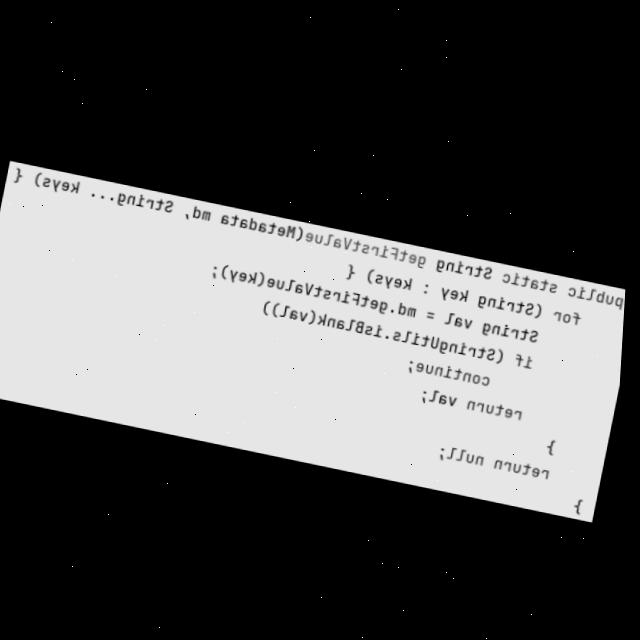code_screen: (0, 161, 625, 521)
